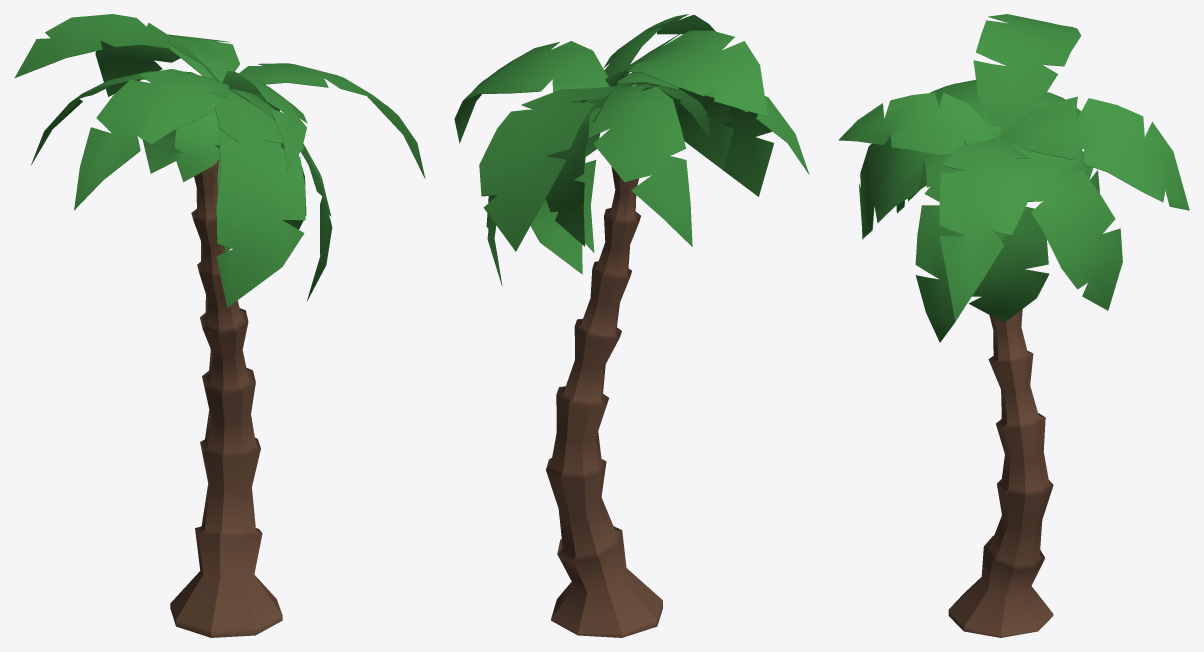
The model's file is PalmCurved.fbx.
The picture shows the model from 3 angles, left to right: view 1: azimuth 30°, elevation 25°; view 2: azimuth 150°, elevation 25°; view 3: azimuth 270°, elevation 25°; orthographic projection. The views are drawn at different scales.
Visible parts, largest first — view 1: PalmCurved; view 2: PalmCurved; view 3: PalmCurved.
Boxes of the visible parts, x1=… form: PalmCurved: x1=14, y1=14, x2=425, y2=637; PalmCurved: x1=454, y1=14, x2=809, y2=637; PalmCurved: x1=838, y1=14, x2=1189, y2=637.
Size of the model in its own units: 317 by 506 by 297.
